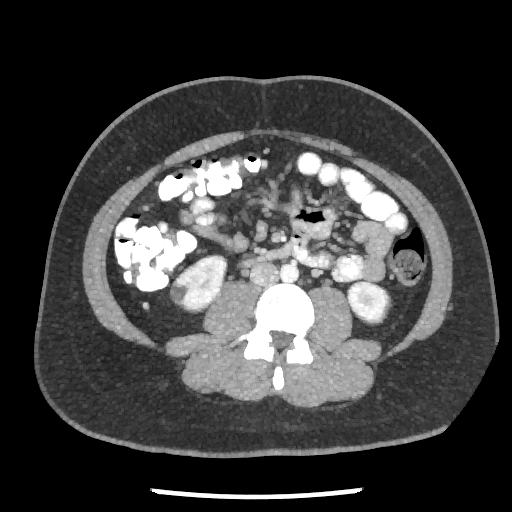Lesion: (167, 281, 188, 303)
